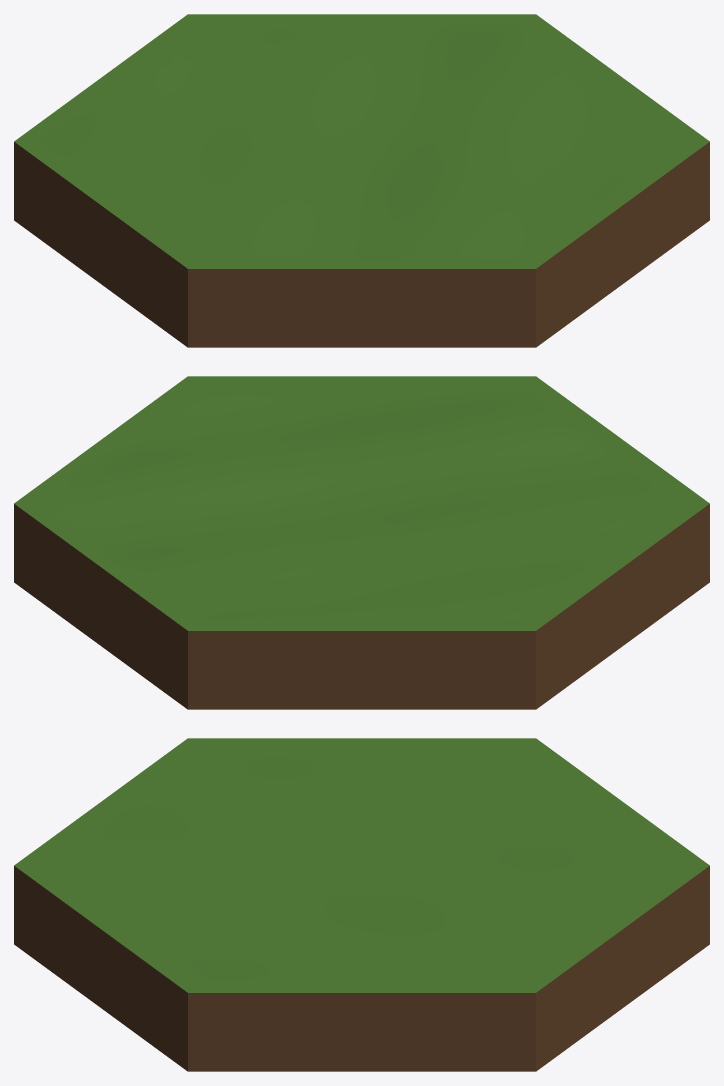
File: meadow_base.glb
The picture shows the model from 3 angles, top to bottom: view 1: azimuth 30°, elevation 25°; view 2: azimuth 150°, elevation 25°; view 3: azimuth 270°, elevation 25°; orthographic projection.
Visible parts, largest first — view 1: meadow_base_lod0; view 2: meadow_base_lod0; view 3: meadow_base_lod0.
Boxes of the visible parts, <box> form: meadow_base_lod0: <box>14,14,709,347</box>; meadow_base_lod0: <box>14,376,709,709</box>; meadow_base_lod0: <box>14,738,709,1071</box>.
Size of what is drawn, in the model's own units: 27.71 by 4 by 32.
